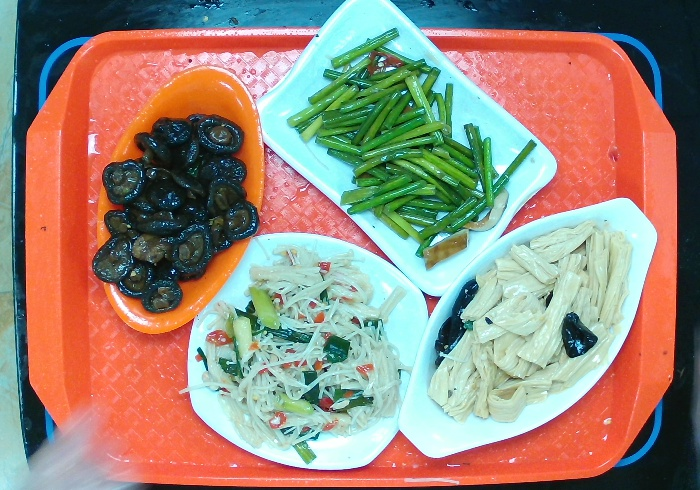RJxy-Ju_Huang_Tuo_Yuan: (95, 64, 267, 337)
RJxy-Si_Fang_Ao_Bian_Wan: (240, 1, 561, 301)
RJxy-Si_Fang_Die: (183, 230, 431, 468)
RJxy-Yu_Pan: (398, 197, 661, 456)
